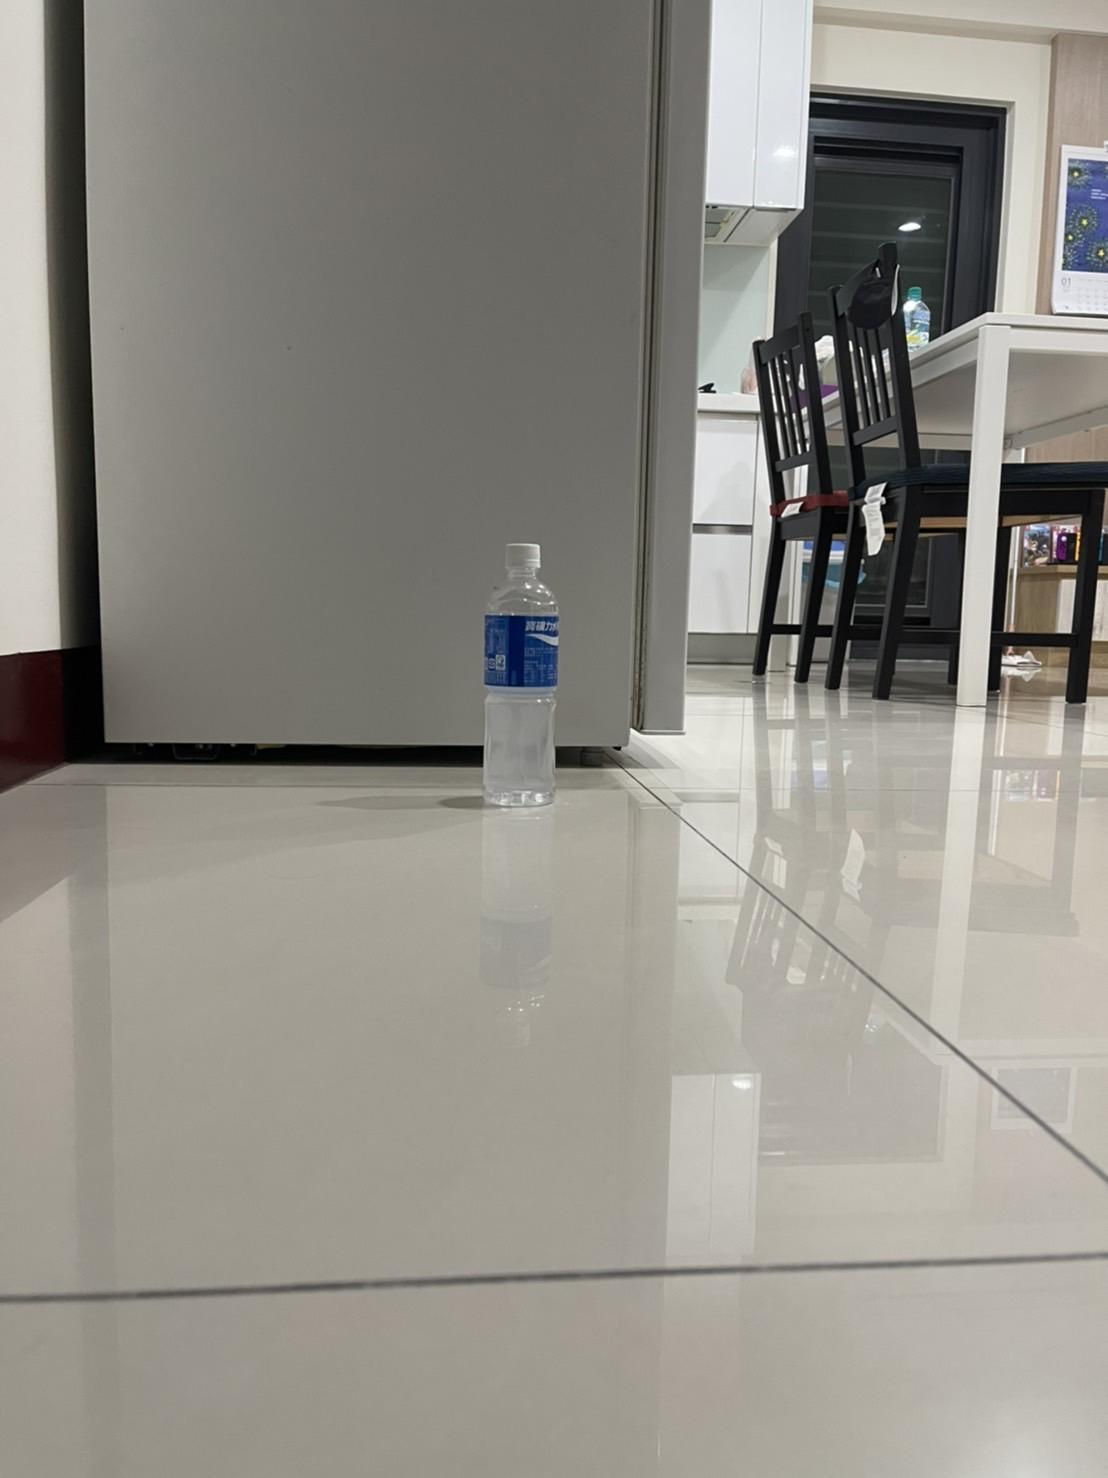bottle: (466, 523, 570, 838)
